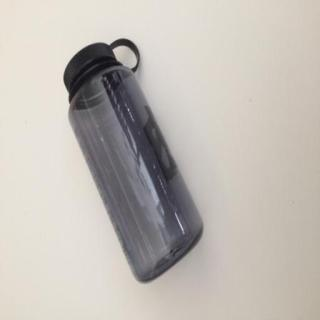Plastic-bottle: (62, 36, 208, 288)
